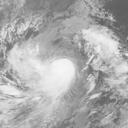cyclone: (35, 58, 76, 102)
